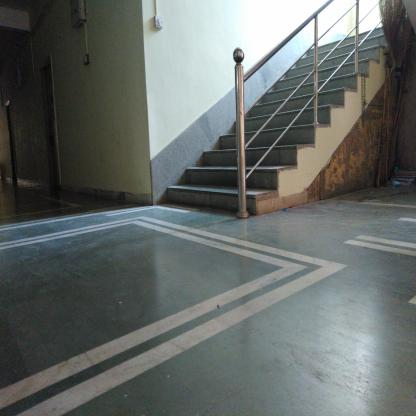stairs: (205, 148, 235, 219)
